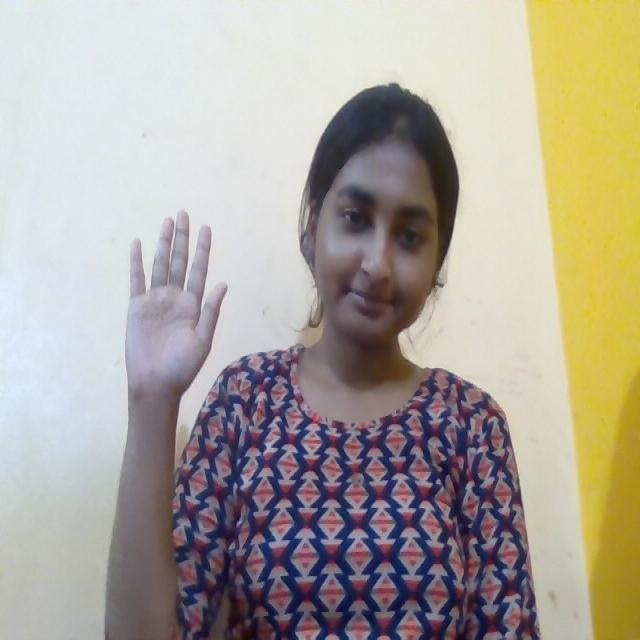Hello: (99, 188, 239, 415)
